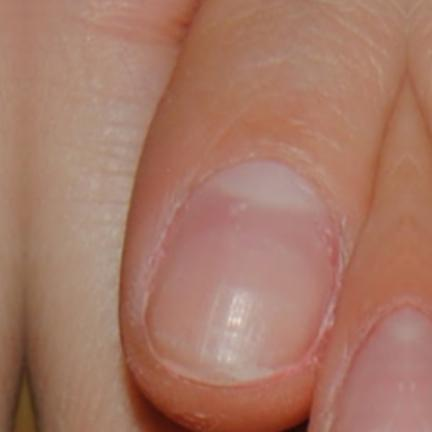Nail: (144, 160, 341, 386), (330, 308, 405, 430), (408, 308, 432, 430)
